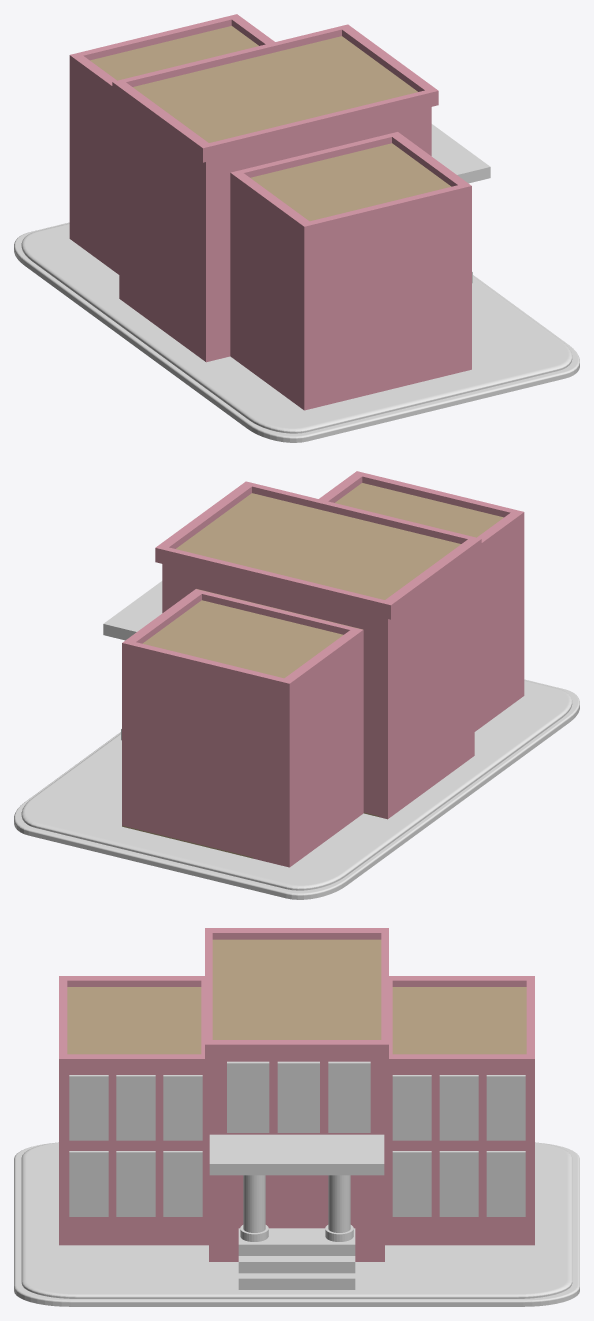
The model's file is Bank.fbx.
The picture shows the model from 3 angles, top to bottom: view 1: azimuth 30°, elevation 25°; view 2: azimuth 150°, elevation 25°; view 3: azimuth 270°, elevation 25°; orthographic projection.
Visible parts, largest first — view 1: Building, BuildingMid, Grass, Ground, Indoor; view 2: Building, BuildingMid, Grass, Ground, Indoor; view 3: Building, BuildingMid, Grass, Windows, Windows.001, Windows.002, Windows.003, Windows.004, Indoor, Ground, Stair, Circle.
Part boxes in pixels (<box>): Building: <box>69,14,471,410</box>; BuildingMid: <box>112,24,438,362</box>; Grass: <box>21,223,572,433</box>; Ground: <box>14,222,579,442</box>; Indoor: <box>431,124,490,183</box>; Building: <box>122,471,524,867</box>; BuildingMid: <box>155,481,481,819</box>; Grass: <box>21,680,572,890</box>; Ground: <box>14,679,579,899</box>; Indoor: <box>103,581,162,640</box>; Building: <box>59,976,534,1245</box>; BuildingMid: <box>205,928,388,1261</box>; Grass: <box>21,1142,572,1298</box>; Windows: <box>227,1061,370,1132</box>; Windows.001: <box>392,1075,525,1140</box>; Windows.002: <box>392,1151,525,1216</box>; Windows.003: <box>69,1151,202,1216</box>; Windows.004: <box>69,1075,202,1140</box>; Indoor: <box>209,1134,384,1175</box>; Ground: <box>14,1143,579,1306</box>; Stair: <box>238,1228,355,1289</box>; Circle: <box>240,1175,353,1241</box>.
Size of the model in its own units: 3000 by 2018 by 4500.
Materials: 2 (2 with a texture image).
